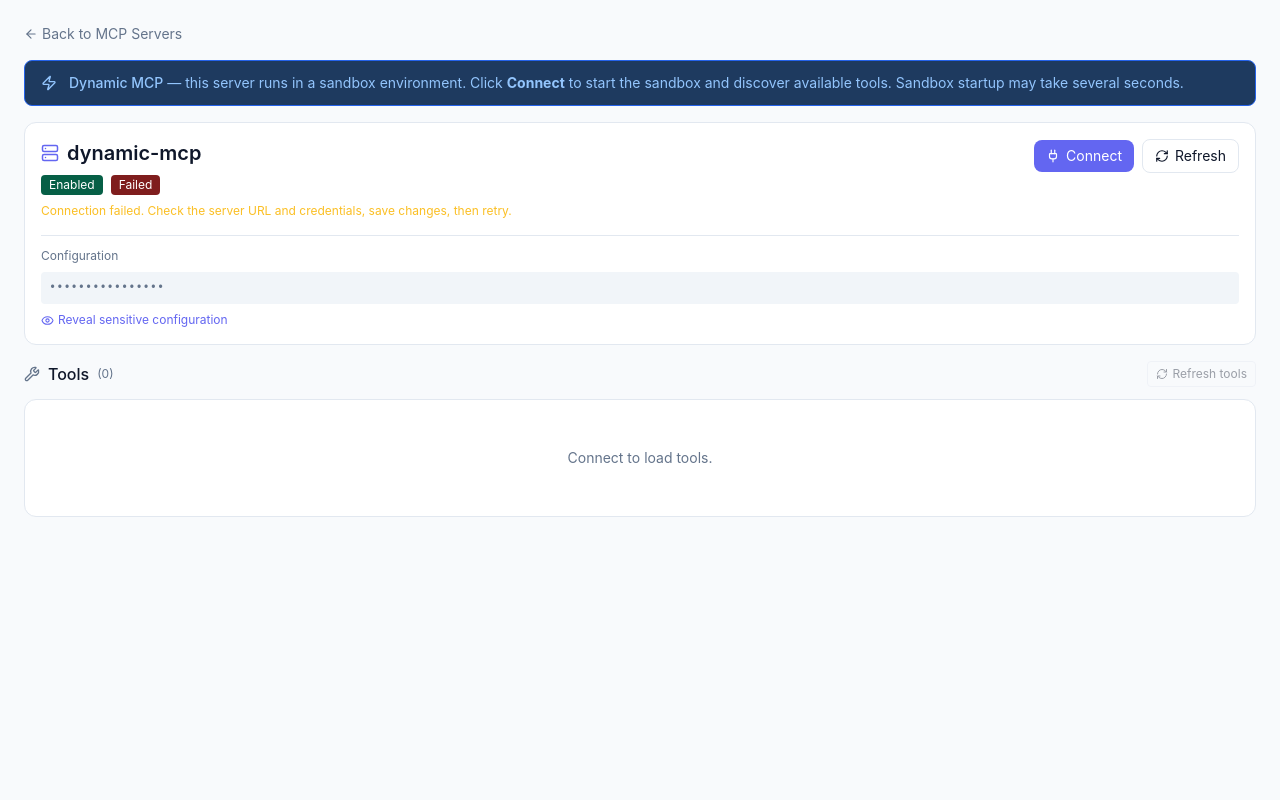
MCP server detail › hides sensitive raw JSON for dynamic MCP servers
expect the heading "dynamic-mcp" is shown: met, box [67,139,202,167]
expect the text "dynamic-secret" is not shown: met
Click the button with aria-label "Reveal raw configuration".
click(134, 320)  # box [41,312,228,328]
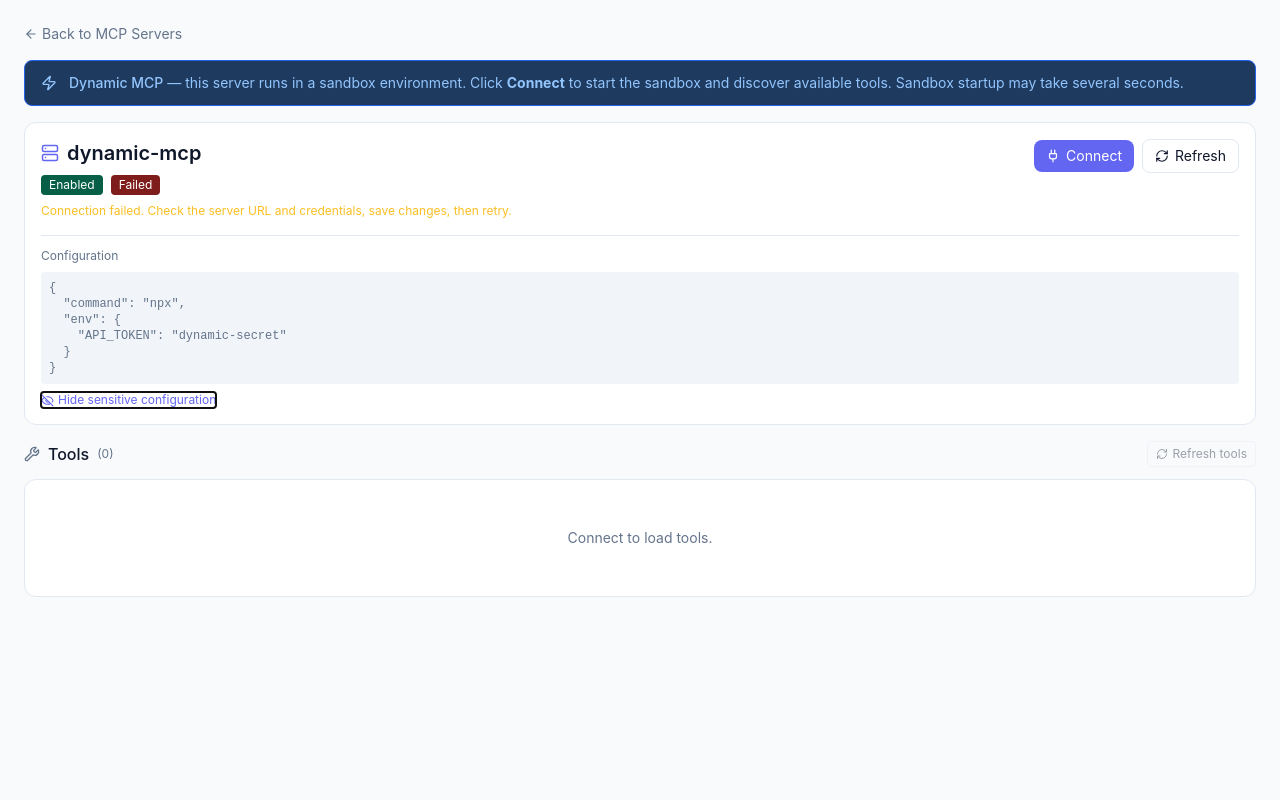
expect the text "dynamic-secret" is shown: met, box [49,281,287,375]
